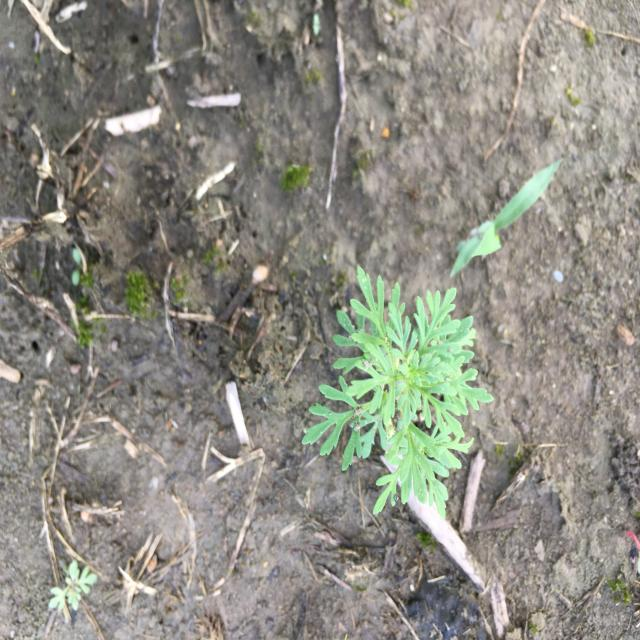Ragweed: (299, 262, 496, 526)
